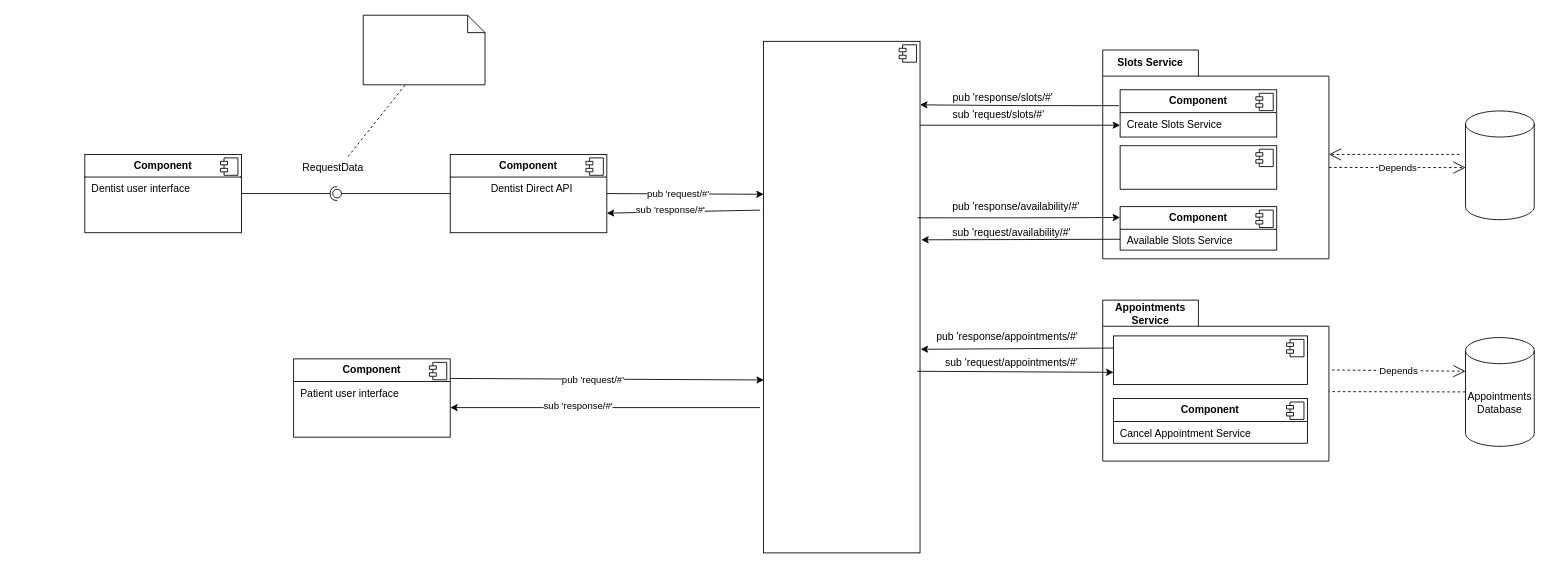
This 1549x568 diagram has some shape labels left out. Here are the shapes that lost their labels. From the top down, the centre of each, then its label:
At [423,49]: "RequestData represents Http requests and responses".
At [1198,167]: "Component Cancel Slots Service".
At [1499,165]: "Slots Database".
At [841,296]: "Component MQTT broker".
At [1210,359]: "Component Booking Appointment Service".
